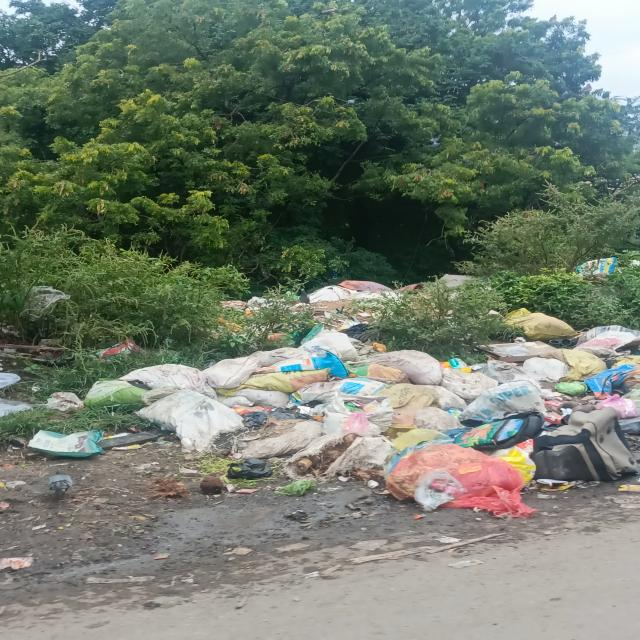garbage: (56, 339, 640, 510), (234, 269, 526, 332)
